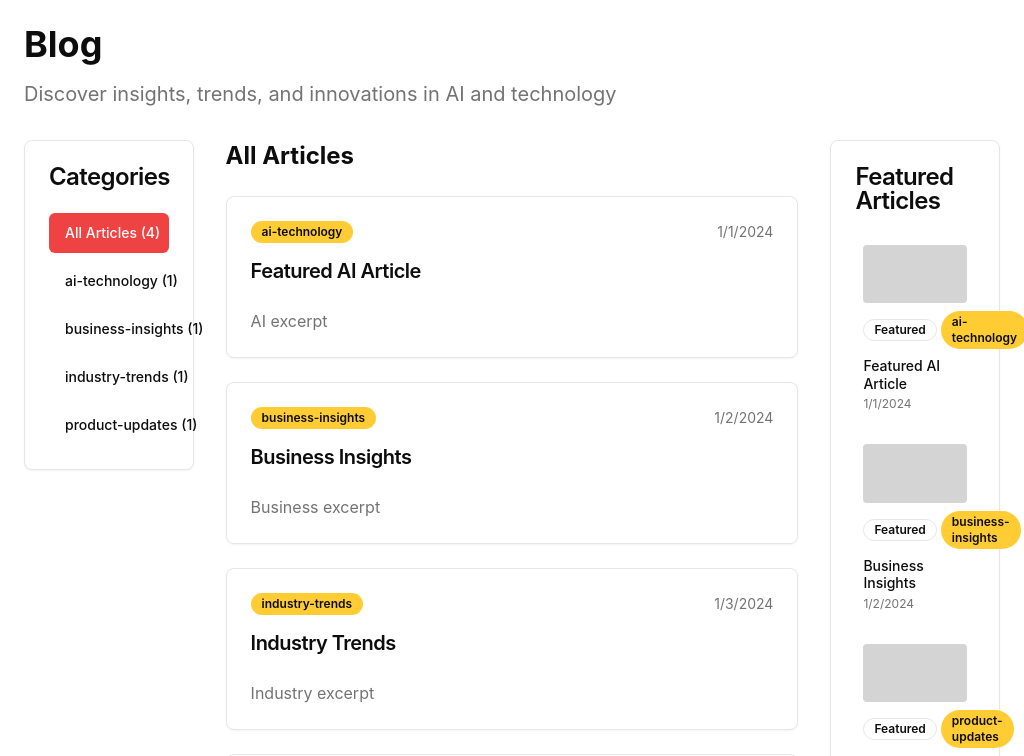
Test: DynamicBlog Component › filters blogs by category
The image size is (1024, 756).
Expected: the button "All Articles (4)" is shown, [49, 213, 169, 253]
# Click on a specific category
Click the button "ai-technology (1)".
click(109, 281)  # box [49, 261, 169, 301]
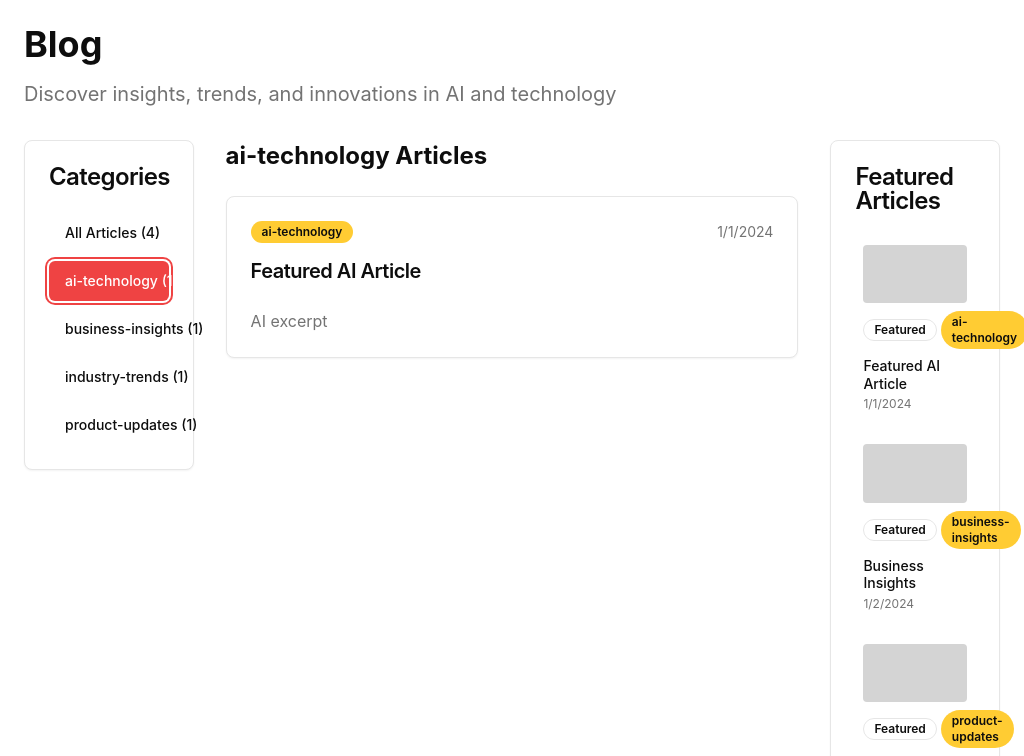
Expected: the heading "Featured AI Article" below "ai-technology Articles" is shown, [251, 259, 421, 283]
Expected: the heading "ai-technology Articles" is shown, [226, 141, 487, 170]
